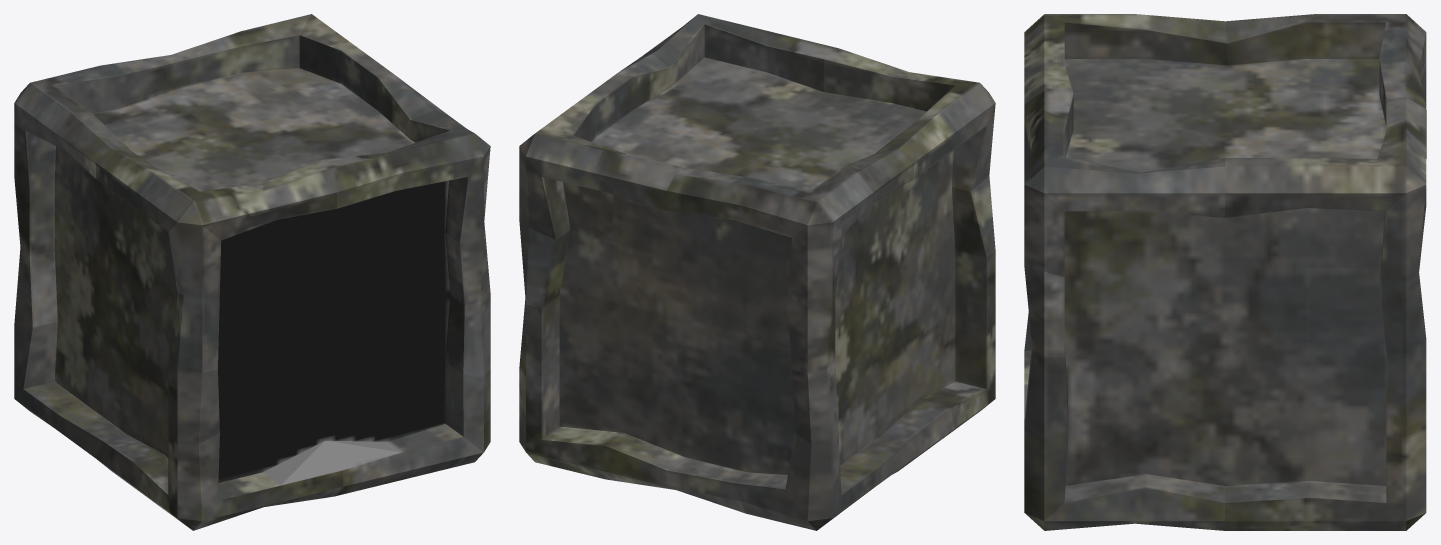
The model's file is Ashlands Stone Drawer.fbx.
3 views of the same model, side by side, from view 1: azimuth 30°, elevation 25°; view 2: azimuth 150°, elevation 25°; view 3: azimuth 270°, elevation 25° (orthographic). The views are drawn at different scales.
Visible parts, largest first — view 1: Cube; view 2: Cube; view 3: Cube.
Boxes of the visible parts, box(x1,y1,x2,y2) form: Cube: box(14, 14, 490, 530); Cube: box(519, 14, 995, 530); Cube: box(1024, 14, 1426, 530).
Bounding box in the file's own units: 100 × 100 × 100.
1 material, 1 textured.
